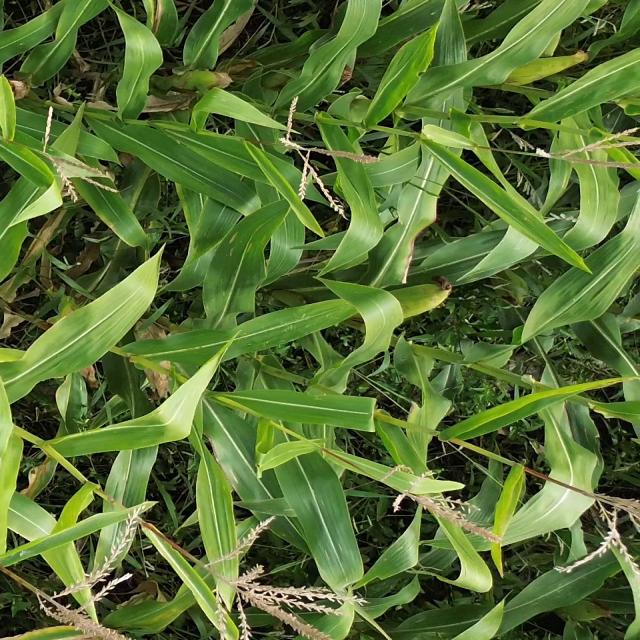gray-leaf-spot: (311, 522, 424, 586), (175, 204, 287, 268)
southern-leaf-blight: (227, 296, 366, 361), (529, 64, 621, 129)
